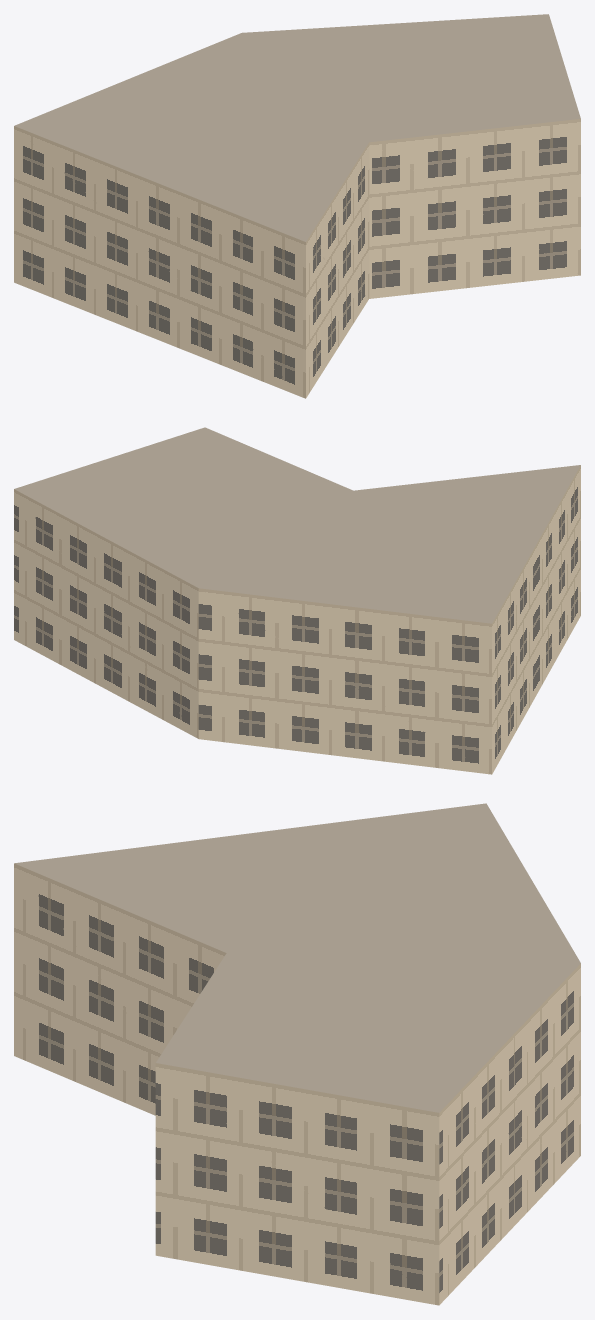
File: irregular-polygon.glb
3 renders of one model, top to bottom at view 1: azimuth 30°, elevation 25°; view 2: azimuth 150°, elevation 25°; view 3: azimuth 270°, elevation 25°, orthographic. The views are drawn at different scales.
Visible parts, largest first — view 1: Irregular polygon; view 2: Irregular polygon; view 3: Irregular polygon.
Boxes of the visible parts, x1,y1,x2,y2 form: Irregular polygon: (14, 14, 580, 398); Irregular polygon: (14, 427, 580, 774); Irregular polygon: (14, 803, 580, 1305).
Size of the model in its own units: 31 by 9 by 24.
2 materials, 1 textured.
